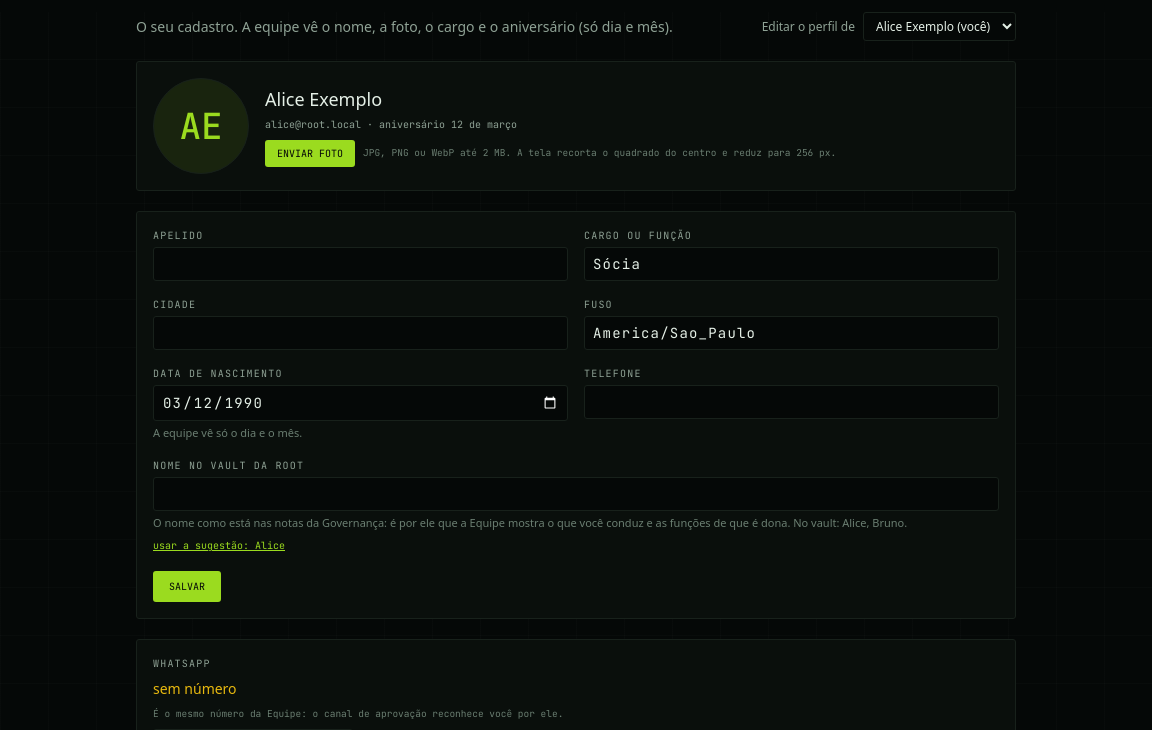
o perfil › quem administra gente escolhe outra pessoa e abre o perfil dela
Select "Bruno Exemplo" in the dropdown labelled "Editar o perfil de": [940, 26] box left=863, top=12, right=1016, bottom=41
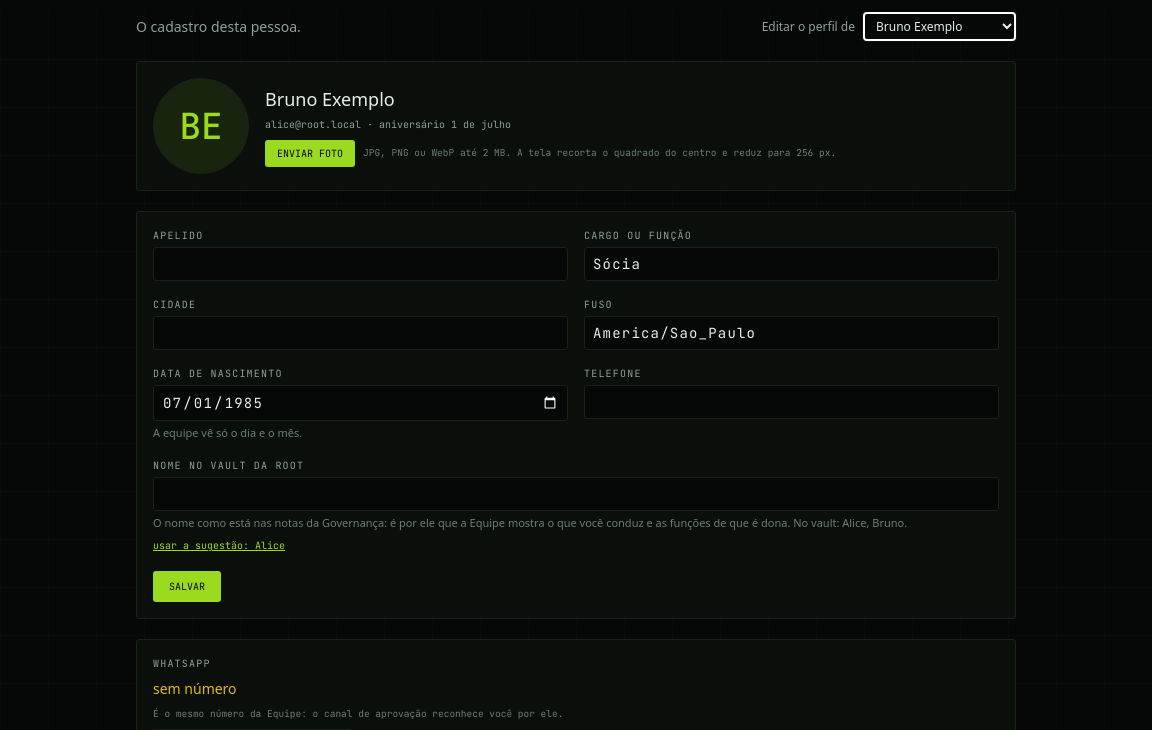
Expected: the heading "Bruno Exemplo" is shown, left=265, top=87, right=395, bottom=111
